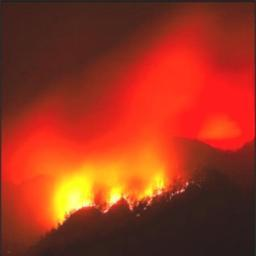Heavy smoke: (7, 4, 249, 250)
Large fire: (2, 3, 256, 255)
